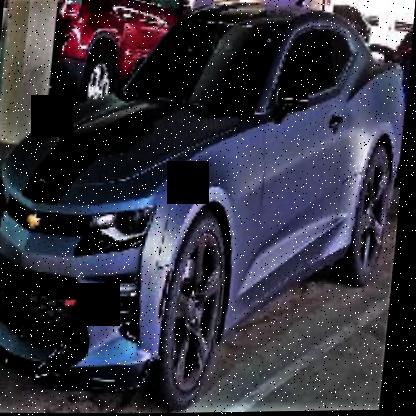not_emergency: (0, 1, 406, 414)
